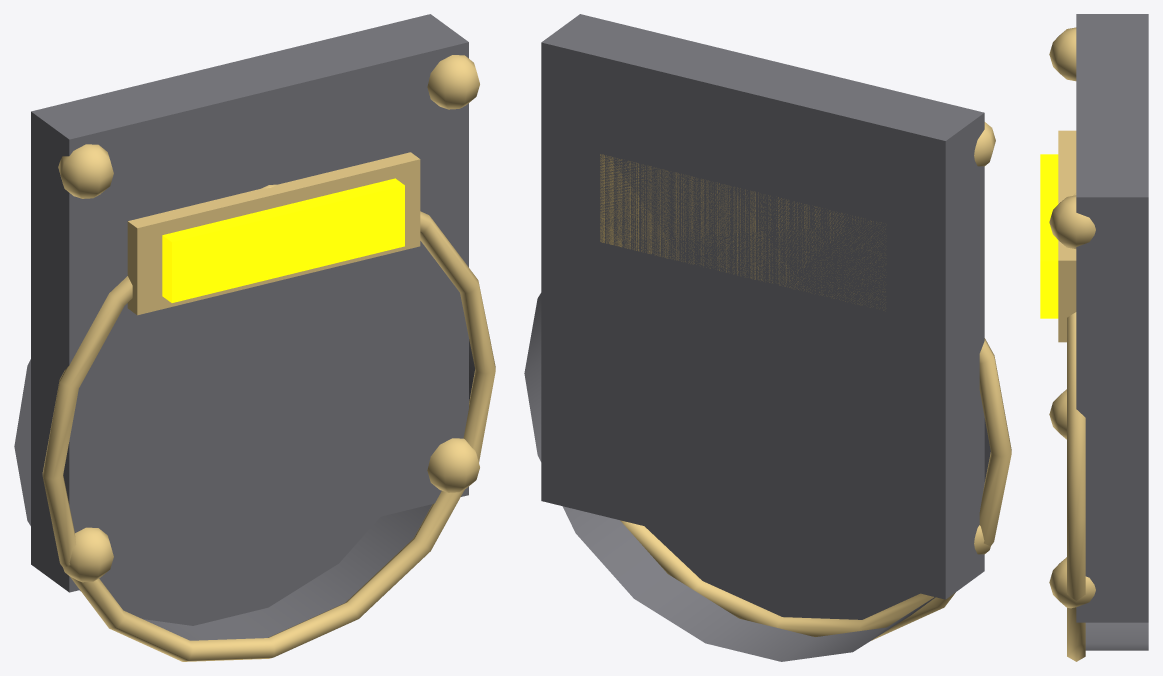
The model's file is welding_mask.glb.
3 views of the same model, side by side, from view 1: azimuth 30°, elevation 25°; view 2: azimuth 150°, elevation 25°; view 3: azimuth 270°, elevation 25° (orthographic). The views are drawn at different scales.
Parts seen in each view (by area): view 1: plate, trim, visor, rivets; view 2: plate, trim, rivets; view 3: plate, trim, rivets, visor.
Boxes of the visible parts, <box> form: plate: <box>14,14,474,640</box>; trim: <box>42,152,495,661</box>; visor: <box>162,178,404,302</box>; rivets: <box>58,55,479,582</box>; plate: <box>524,14,990,661</box>; trim: <box>600,154,1011,640</box>; rivets: <box>974,122,995,554</box>; plate: <box>1076,14,1148,650</box>; trim: <box>1058,130,1085,661</box>; rivets: <box>1049,27,1095,608</box>; visor: <box>1040,154,1058,318</box>.
Size of the model in its own units: 0.272 by 0.326 by 0.06.
